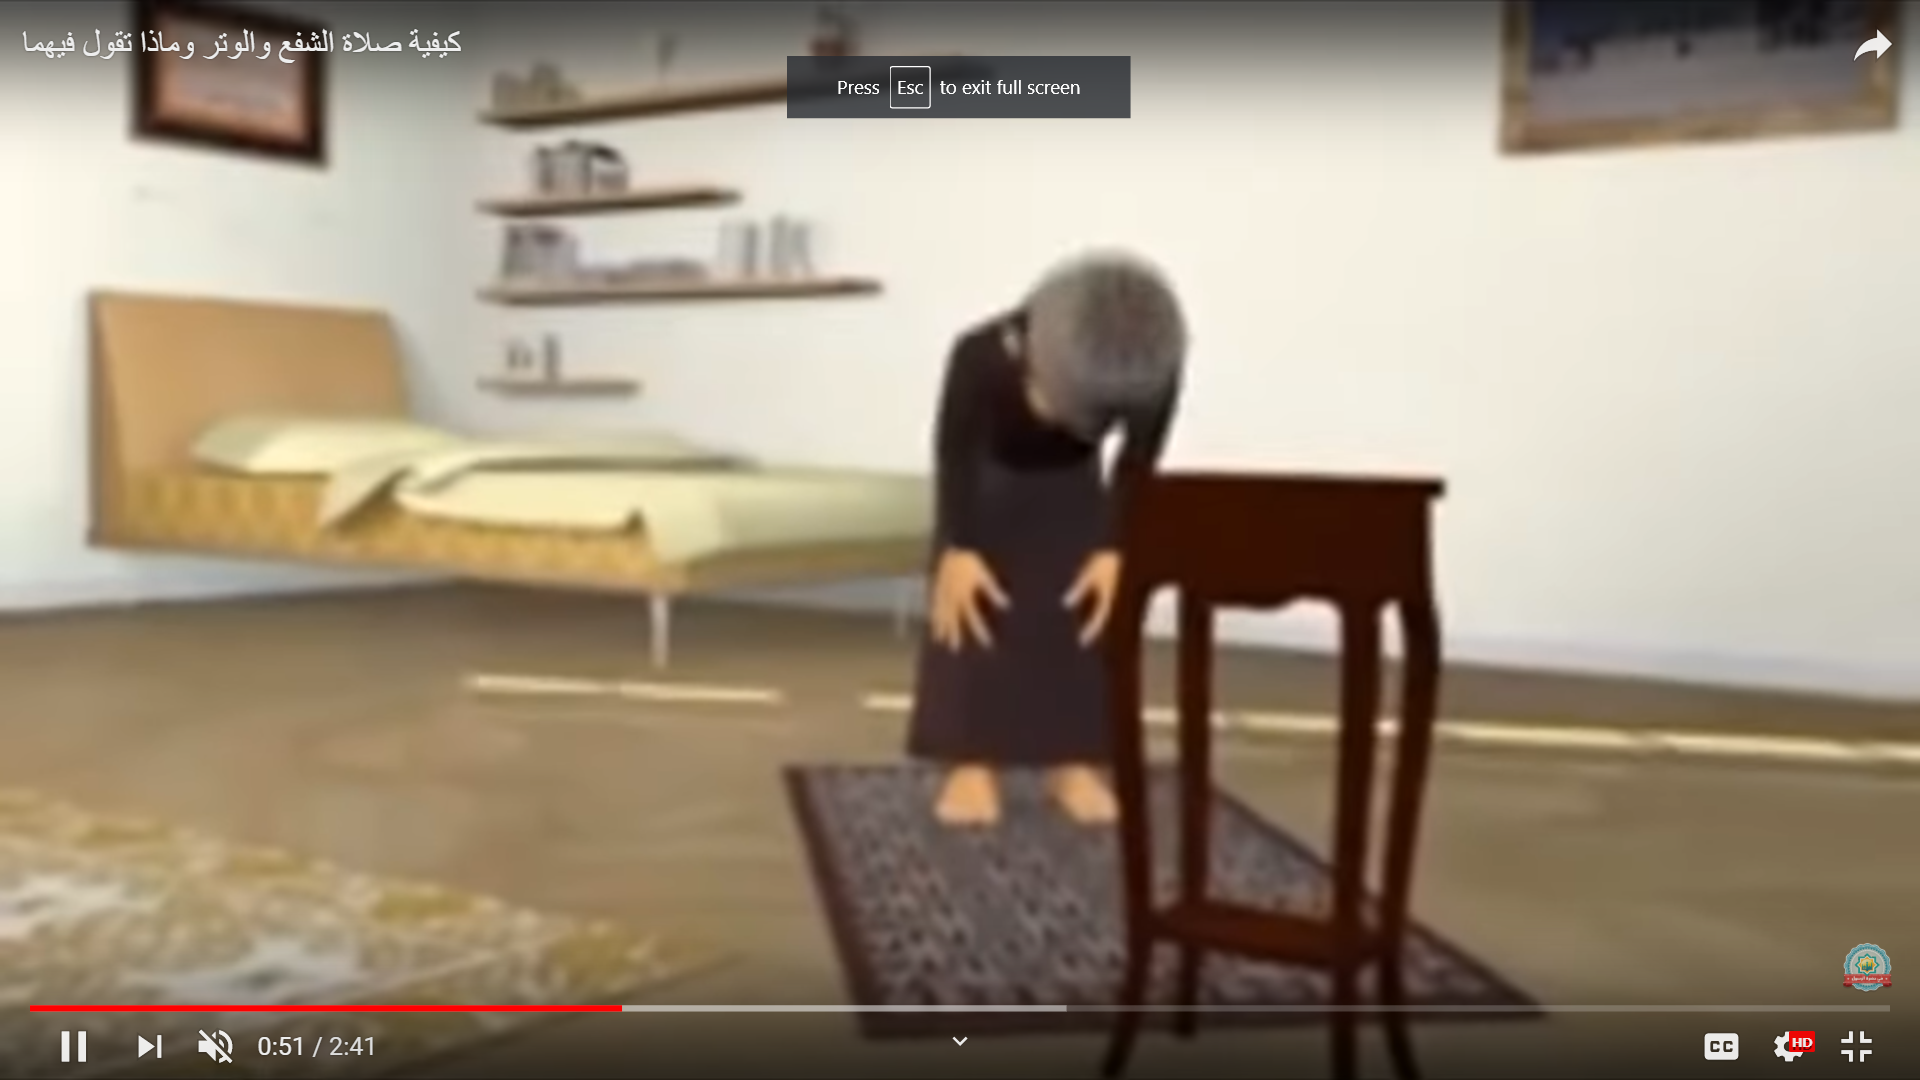ruku: (616, 219, 1404, 887)
